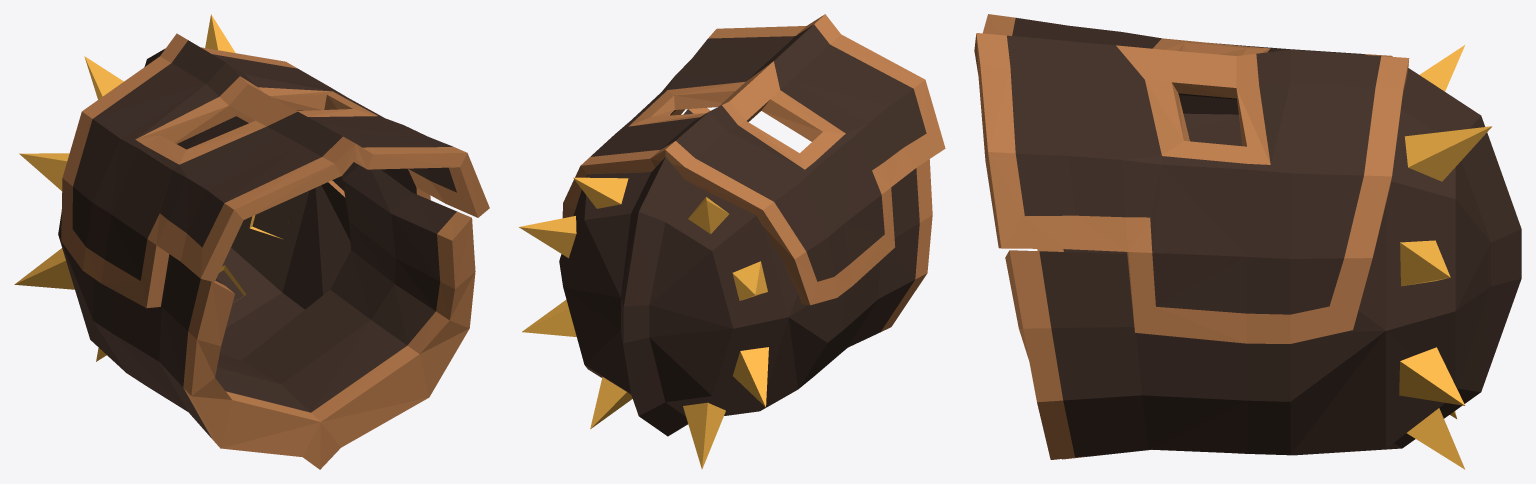
The model's file is Helmet 07.FBX.
3 renders of one model, left to right at view 1: azimuth 30°, elevation 25°; view 2: azimuth 150°, elevation 25°; view 3: azimuth 270°, elevation 25°, orthographic. The views are drawn at different scales.
Visible parts, largest first — view 1: Helmet 07; view 2: Helmet 07; view 3: Helmet 07.
Part boxes in pixels (x1,y1,x2,y2): Helmet 07: (14, 14, 489, 469); Helmet 07: (519, 14, 945, 469); Helmet 07: (974, 14, 1521, 469).
Size of the model in its own units: 38.82 by 52.11 by 44.83.
